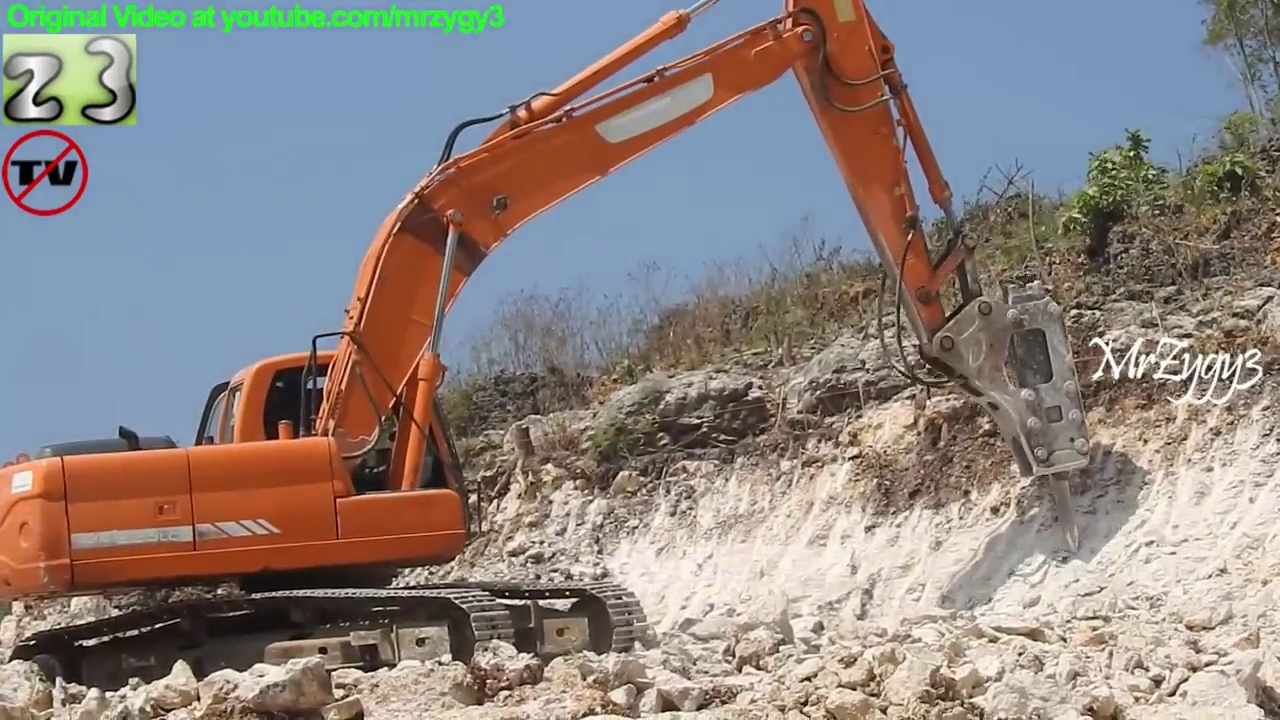excavator breaker: (1, 1, 1099, 720)
